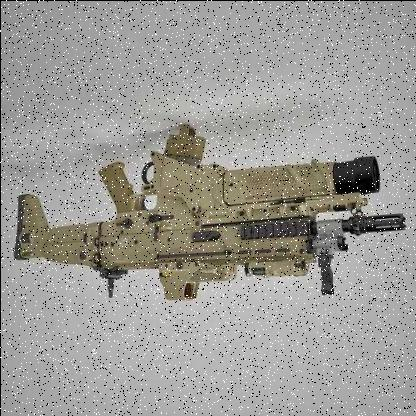rifle: (1, 134, 408, 315)
